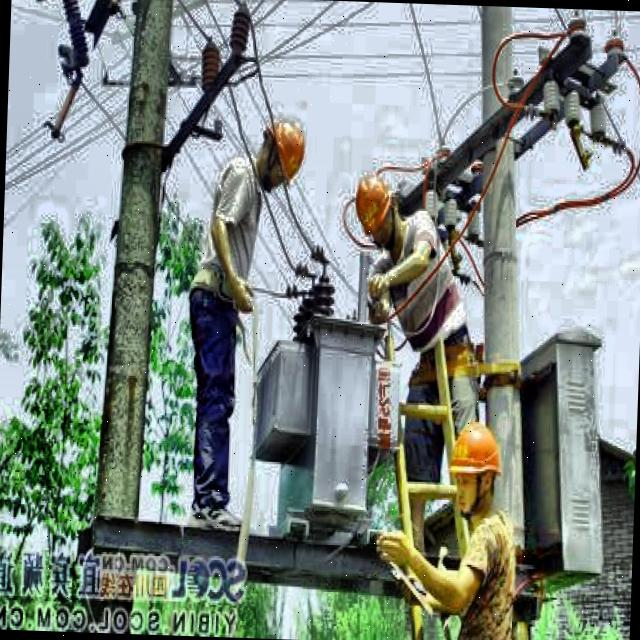helmet: (446, 414, 504, 522), (342, 165, 400, 248), (258, 115, 309, 191)
